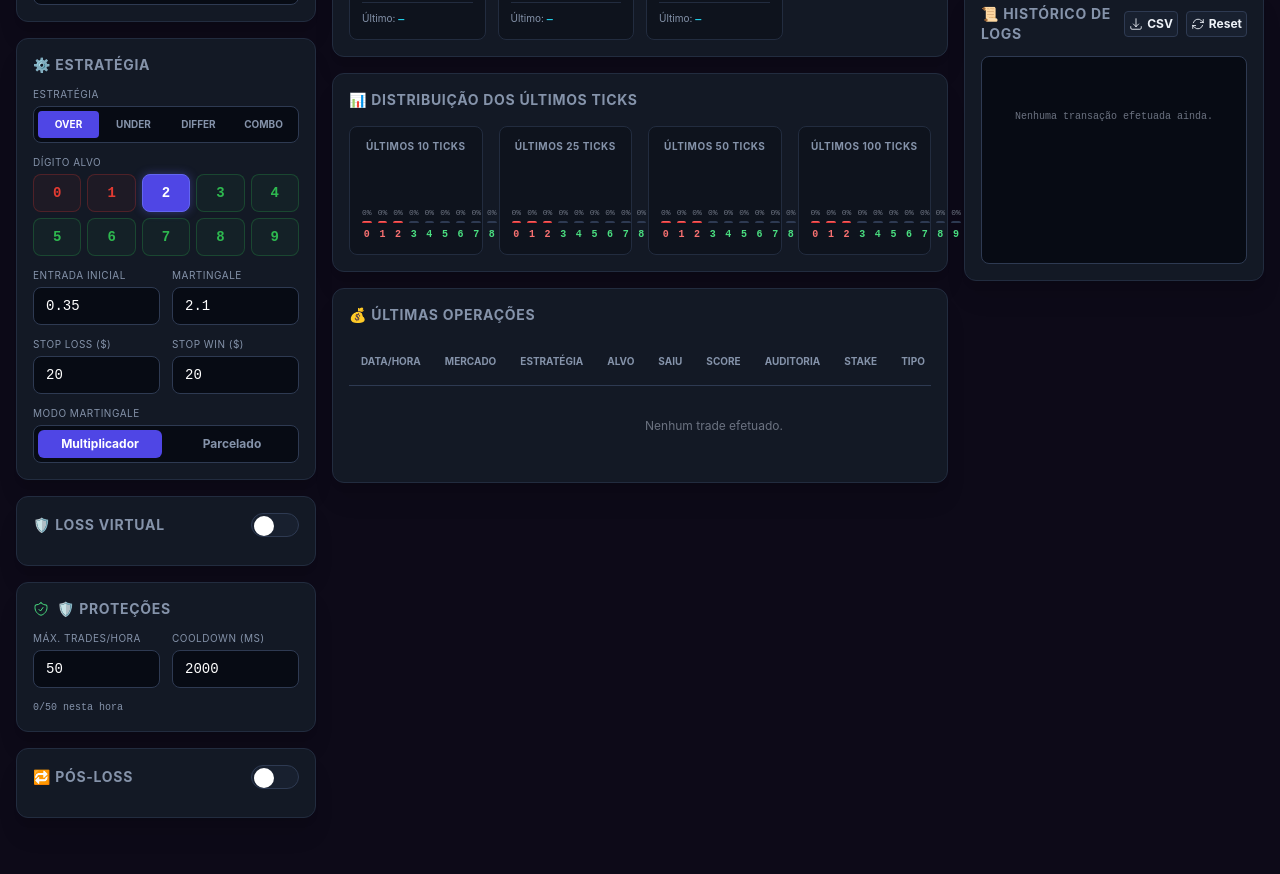
Test: BearBotUltra 2.0 — Bloco Pós-Loss (Card & Funcionalidades) › 5. Validação e clamping do input "Delay (ms)" (mínimo 500ms)
(page scrolled)
Click the button without text next to "🔁 PÓS-LOSS": x=275, y=776 251,764 -> 299,788
(page scrolled)
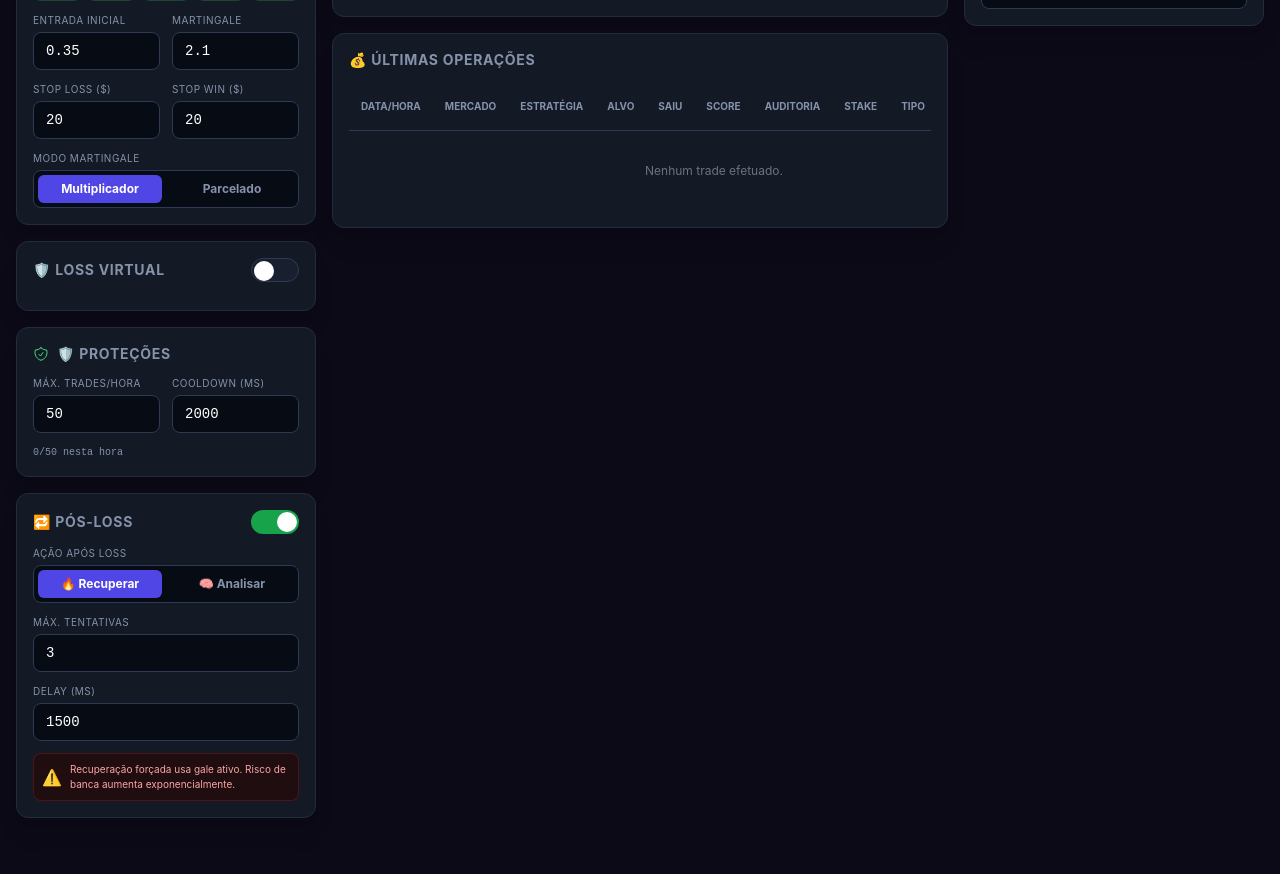
Replace the text in the number field showing "1500" below "Delay (ms)" with "100": x=166, y=722 33,702 -> 299,740
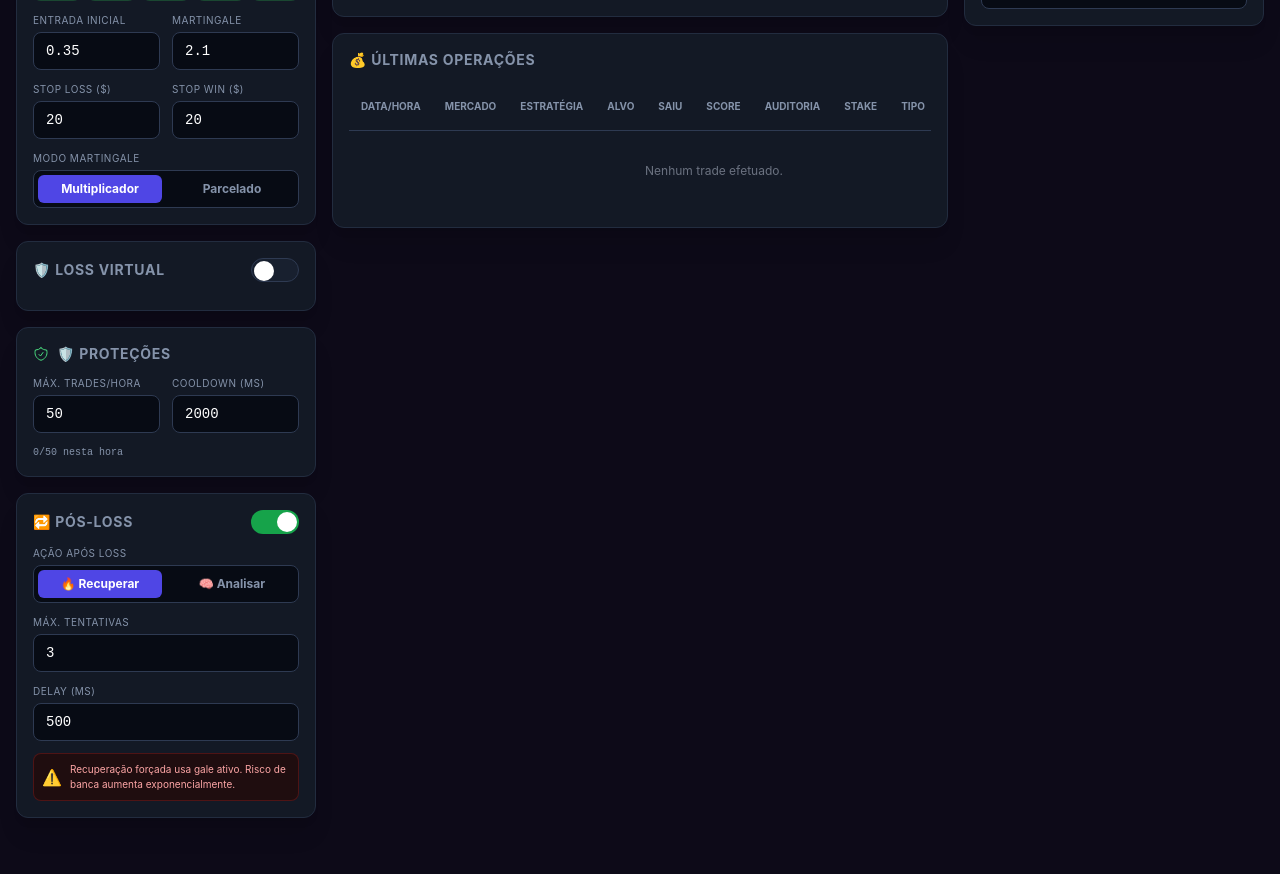
Check: the number field showing "1500" below "Delay (ms)" holds "500"
# Valor válido
Replace the text in the number field showing "1500" below "Delay (ms)" with "2500": x=166, y=722 33,702 -> 299,740
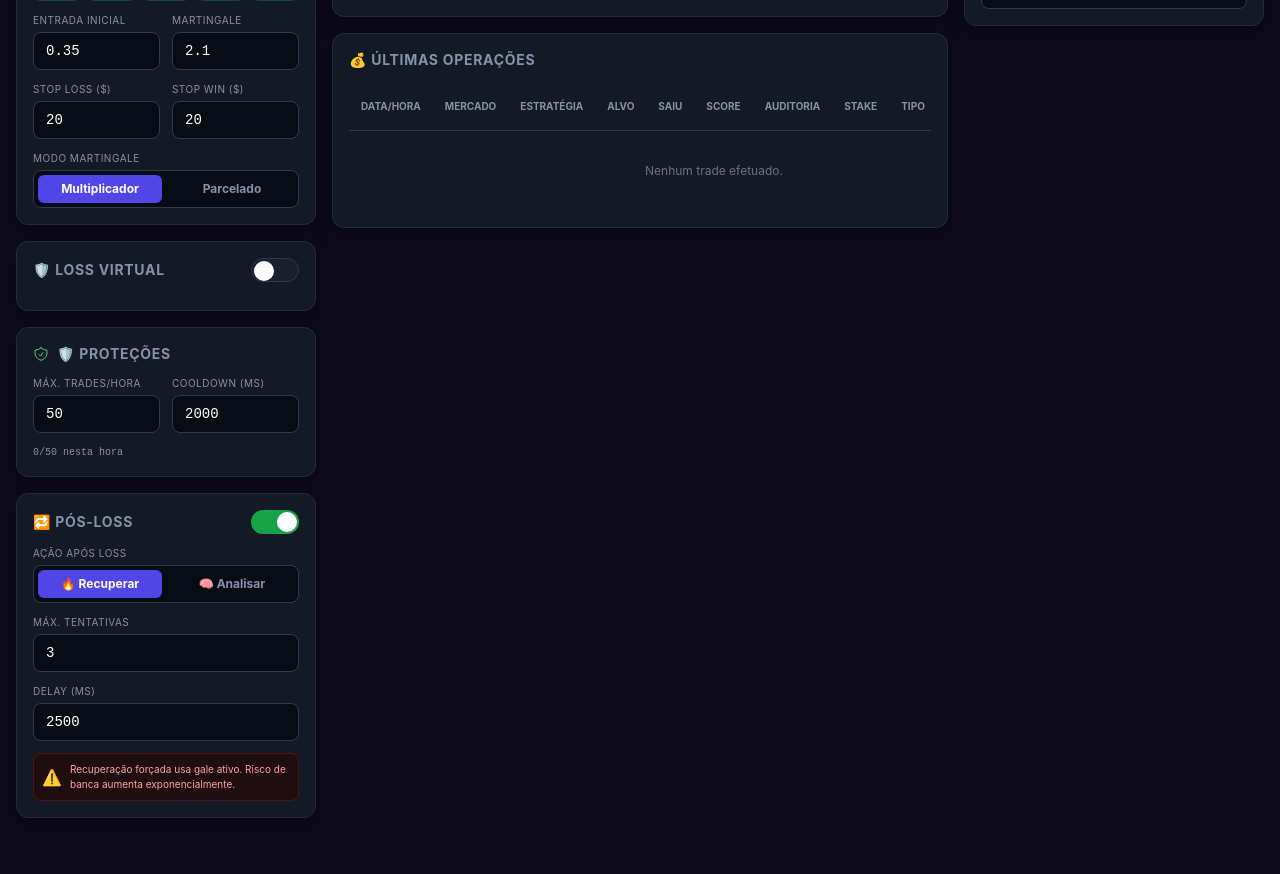
Replace the text in the number field showing "1500" below "Delay (ms)" with "invalid": x=166, y=722 33,702 -> 299,740
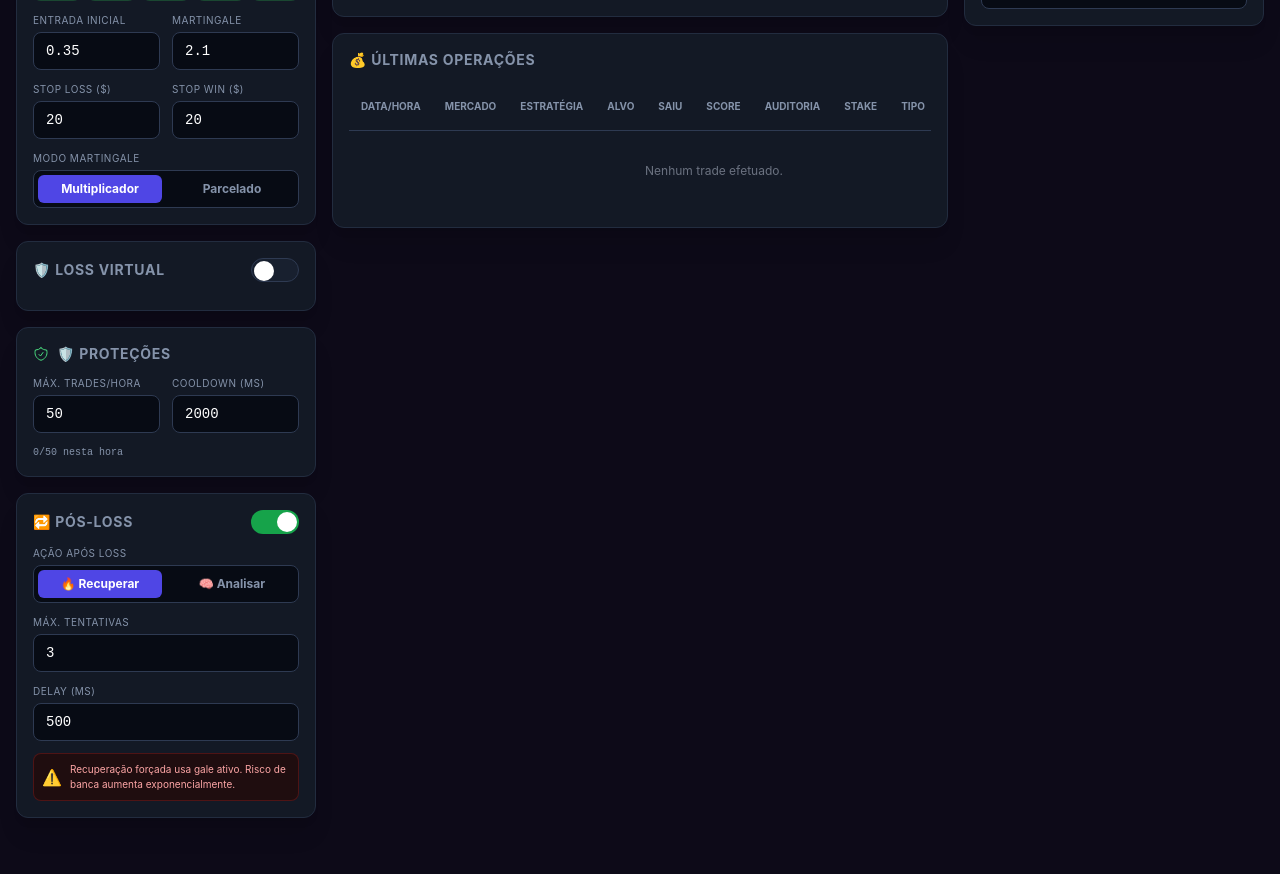
Check: the number field showing "1500" below "Delay (ms)" holds "500", box 33,702 -> 299,740
